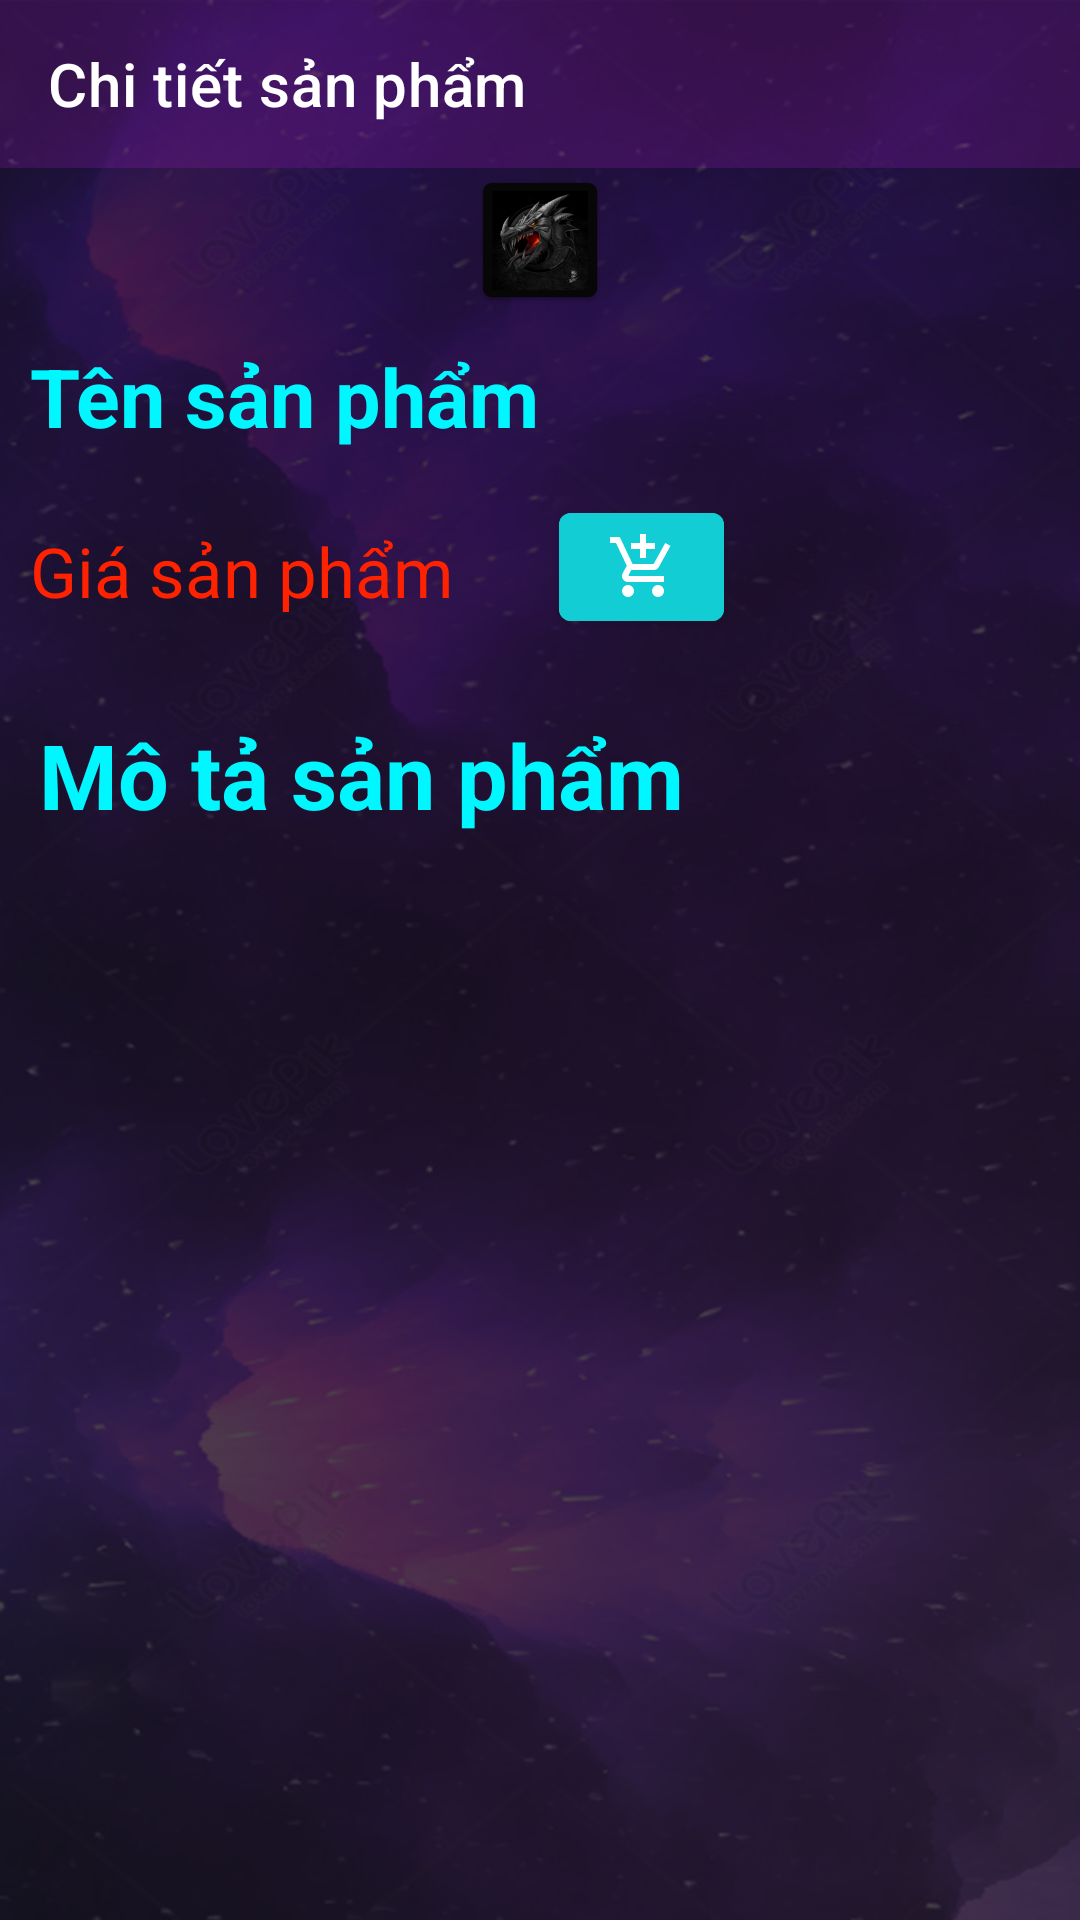

Screen size 1080 x 1920. Icon name, then its center in pixels as [x,y]:
add shopping cart: [641,567]
